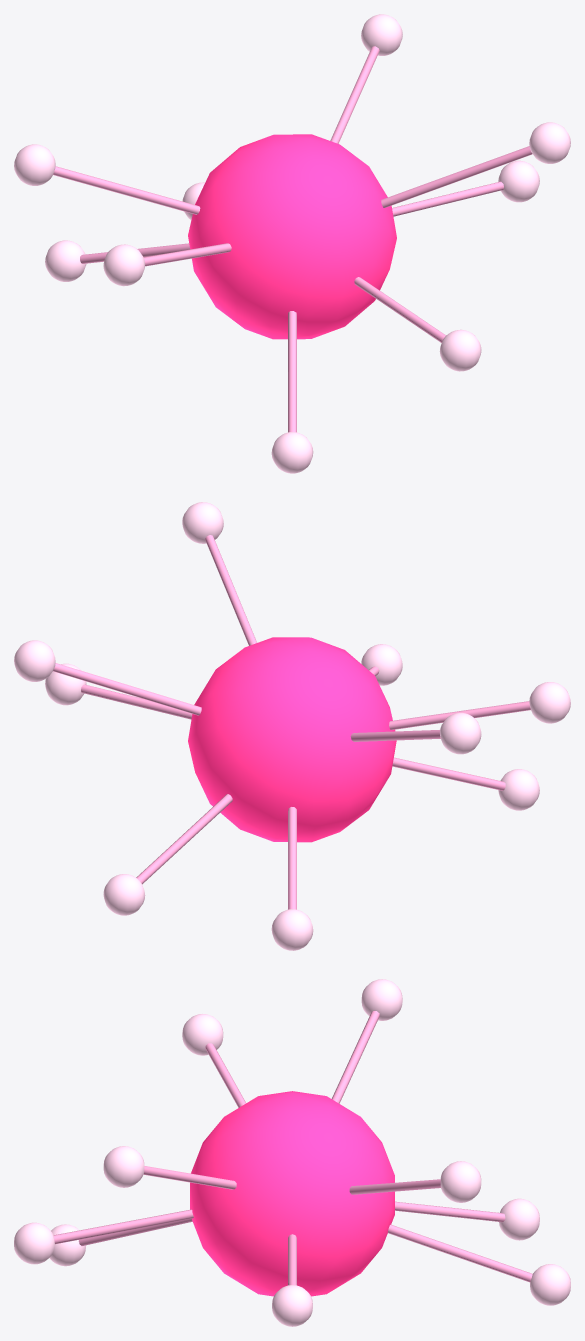
File: neu.glb
3 views of the same model, one above another, from view 1: azimuth 30°, elevation 25°; view 2: azimuth 150°, elevation 25°; view 3: azimuth 270°, elevation 25° (orthographic).
Bounding box in the file's own units: 1.98 × 1.02 × 2.
